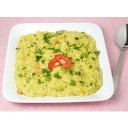venpongal: (17, 30, 98, 96)
